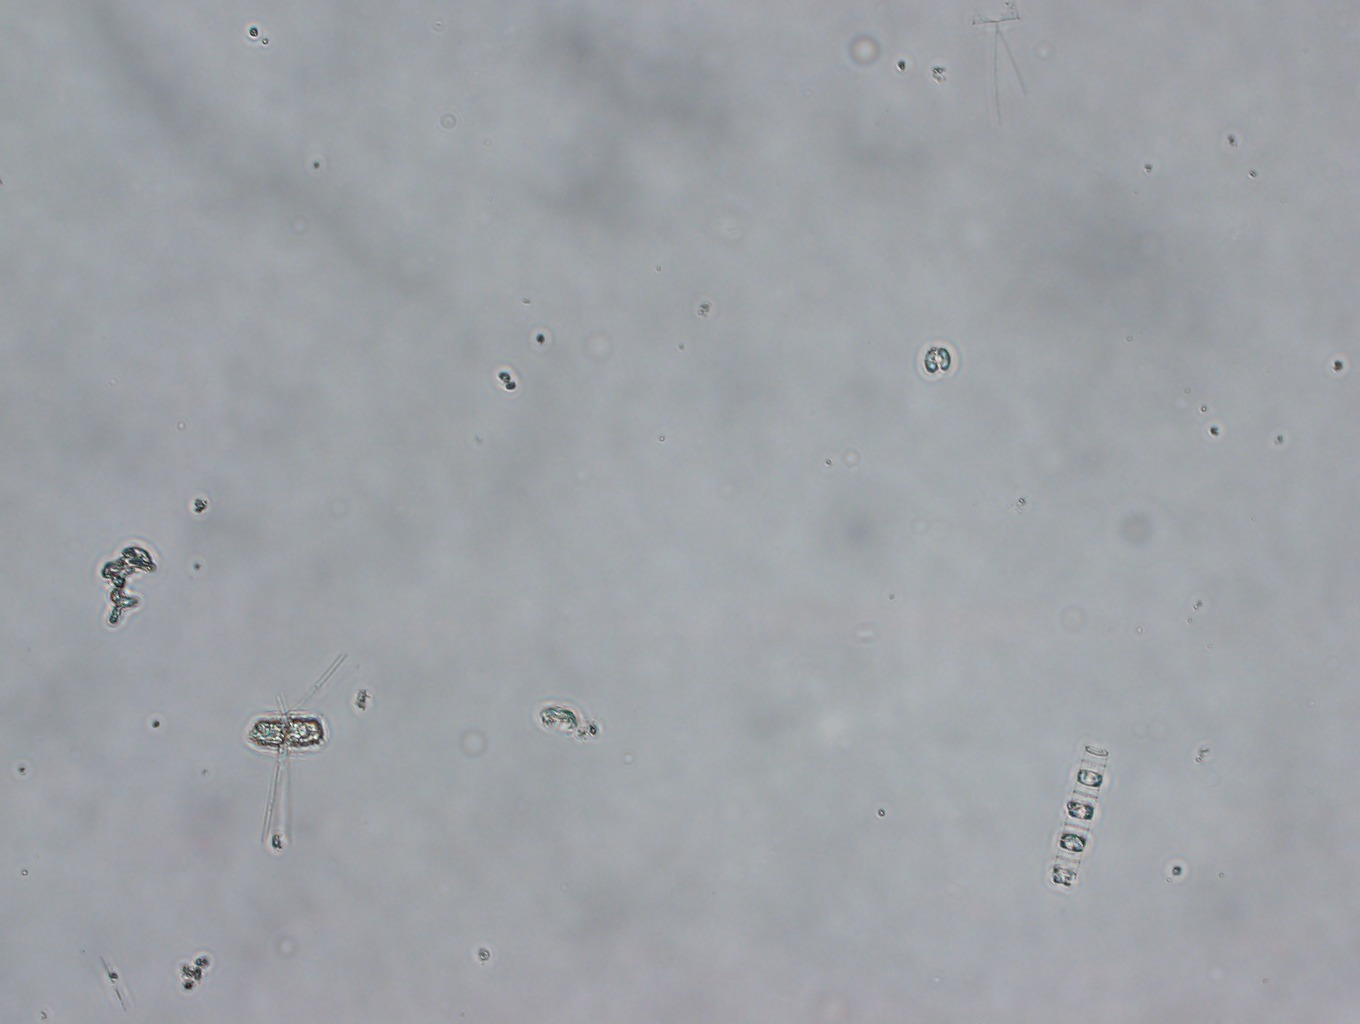skeletonema: (1037, 736, 1117, 907)
